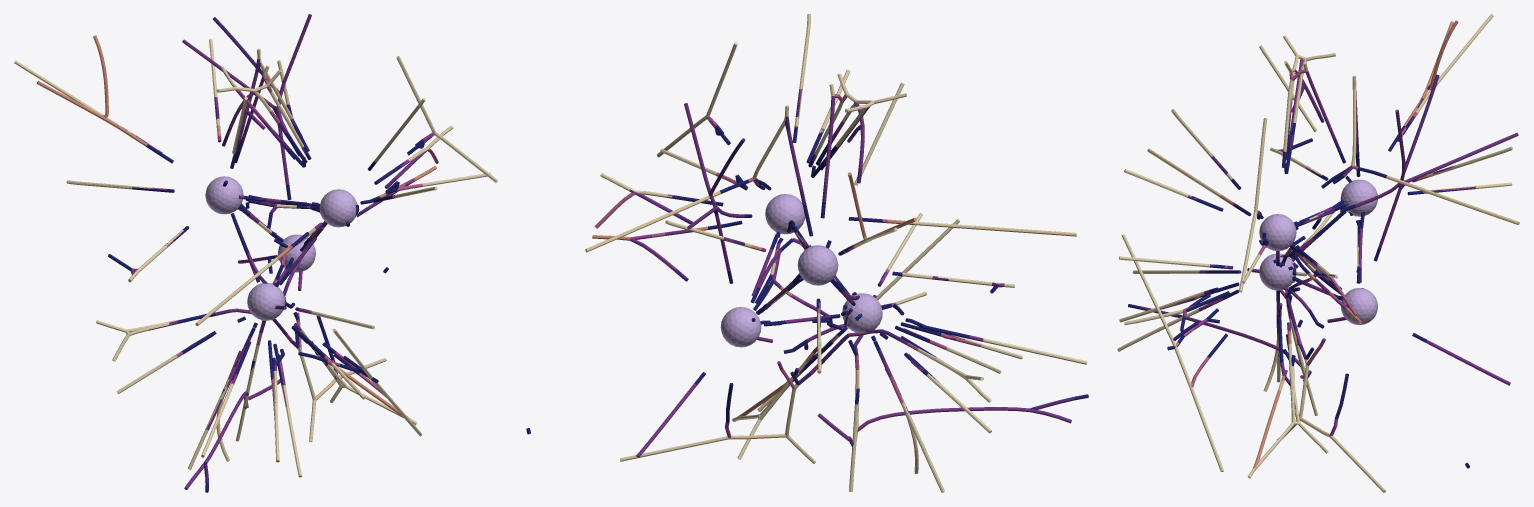
3 renders of one model, left to right at view 1: azimuth 30°, elevation 25°; view 2: azimuth 150°, elevation 25°; view 3: azimuth 270°, elevation 25°, orthographic. The views are drawn at different scales.
Parts seen in each view (by area): view 1: world; view 2: world; view 3: world.
Part boxes in pixels (x1,y1,x2,y2): world: [14, 14, 497, 492]; world: [526, 14, 1088, 492]; world: [1117, 14, 1519, 492].
Size of the model in its own units: 196 by 195 by 194.
